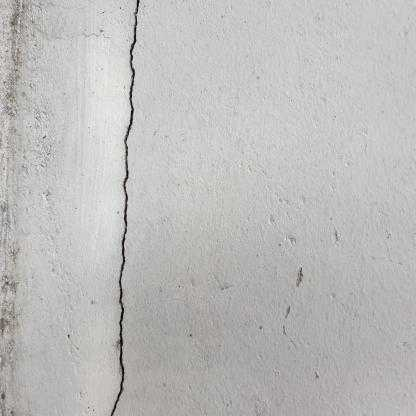crack: (111, 1, 139, 416)
